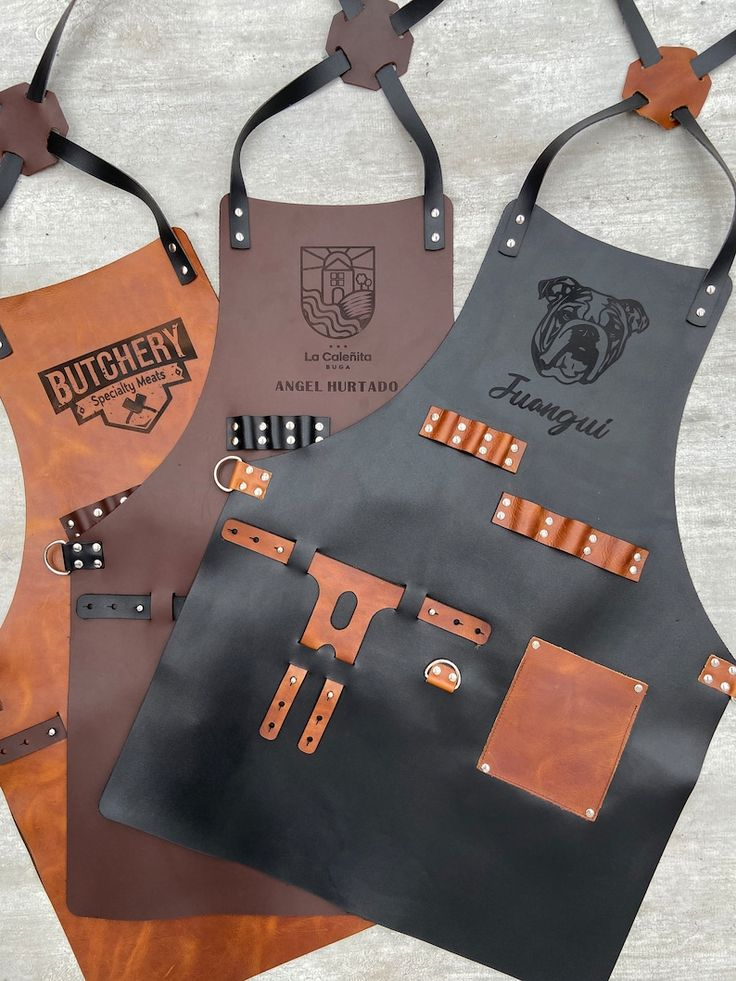cuero: (4, 1, 736, 981)
